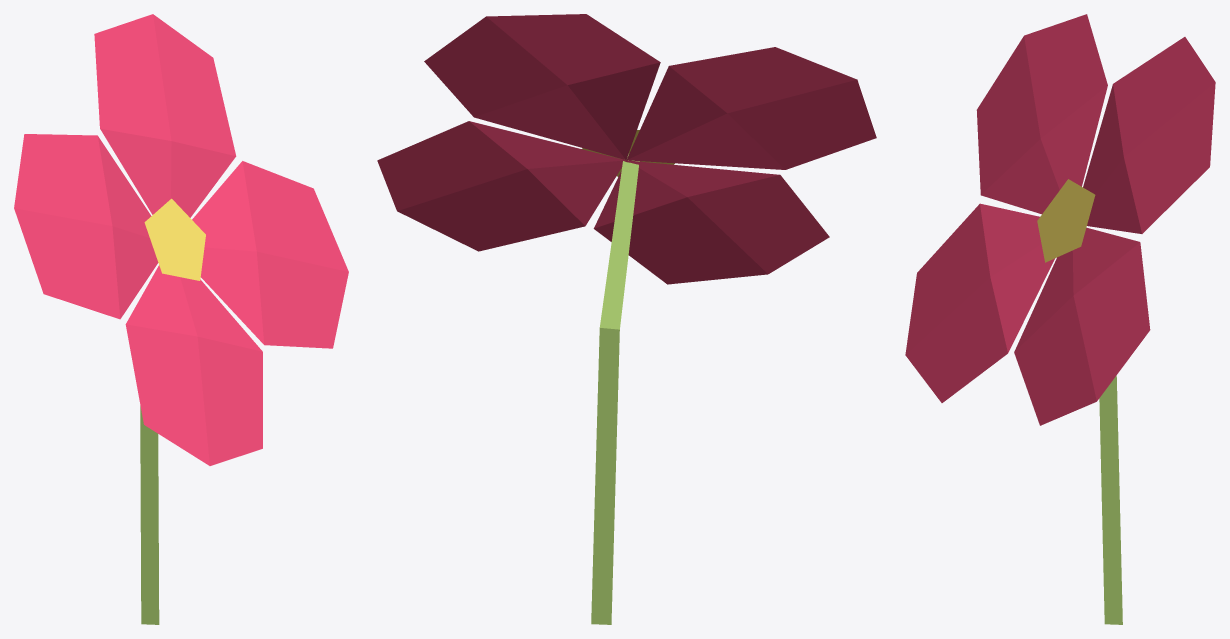
The model's file is Flower_c_OneS_08.fbx.
3 renders of one model, left to right at view 1: azimuth 30°, elevation 25°; view 2: azimuth 150°, elevation 25°; view 3: azimuth 270°, elevation 25°, orthographic. The views are drawn at different scales.
Parts seen in each view (by area): view 1: Flower_c_OneS_08; view 2: Flower_c_OneS_08; view 3: Flower_c_OneS_08.
Part boxes in pixels (x1,y1,x2,y2): Flower_c_OneS_08: (14, 14, 348, 624); Flower_c_OneS_08: (377, 14, 876, 624); Flower_c_OneS_08: (905, 14, 1215, 624).
Bounding box in the file's own units: 0.2878 × 0.4212 × 0.2059.
